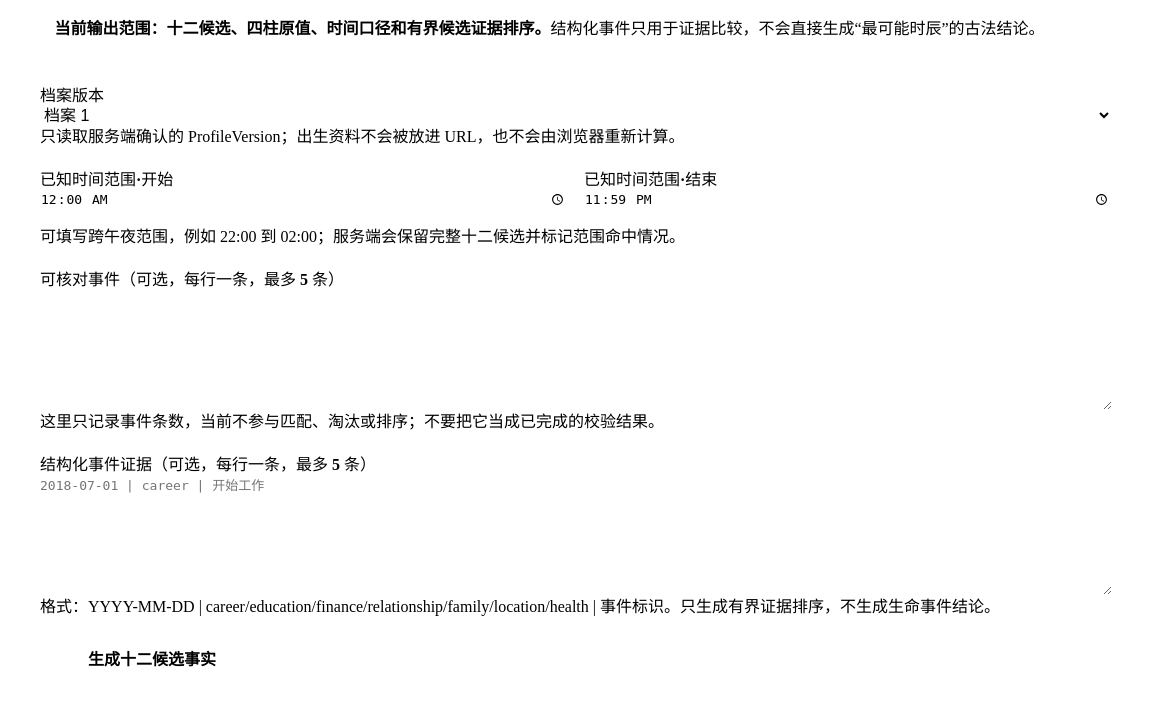
Test case: TimeCheckFlow › rejects malformed structured event evidence before submitting
The width and height of the screenshot is (1152, 720).
(page scrolled)
Step 1. Type "2018/07/01 | 工作 | 开始工作" into the text box labelled "结构化事件证据（可选，每行一条，最多 5 条）" → (576, 535), box [40,475,1112,595]
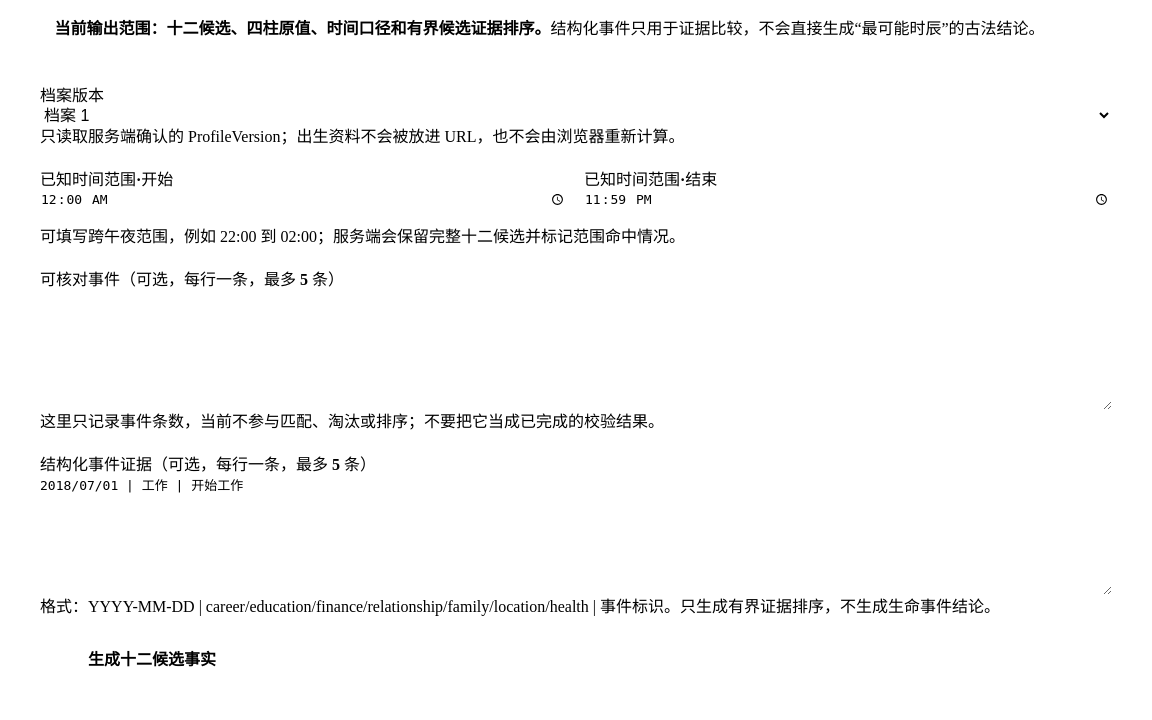
Step 2. Click the button "生成十二候选事实" → click(152, 658), box [40,636,264,680]
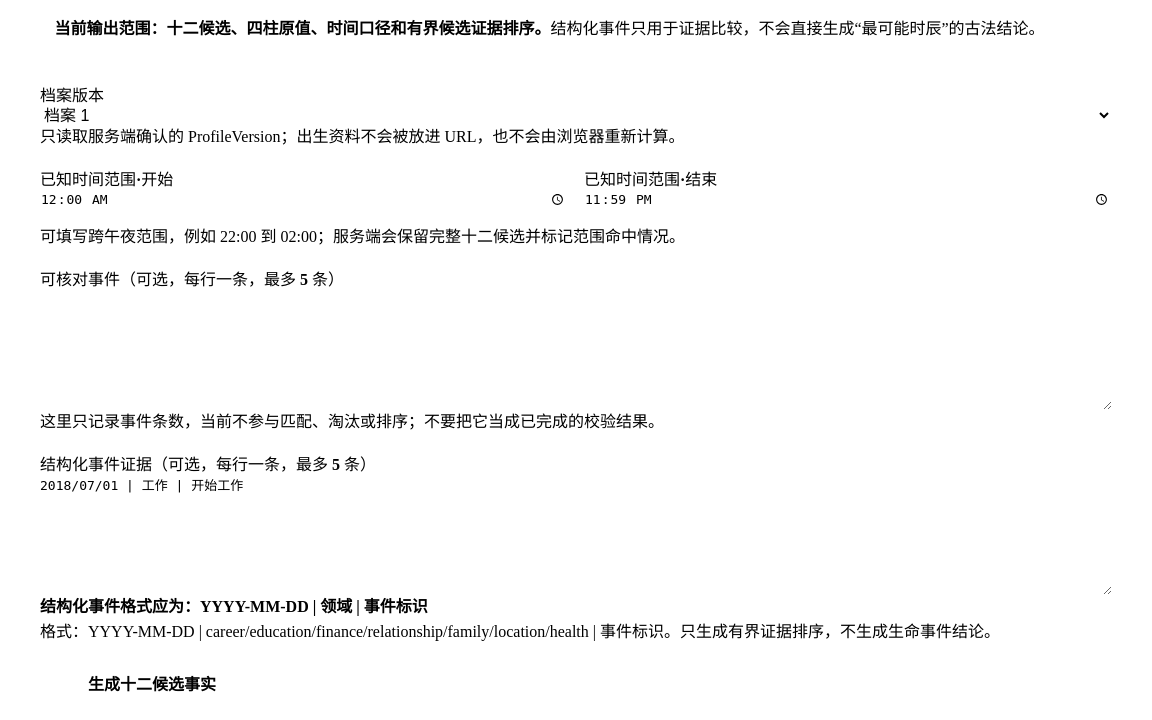
Expected: the message shows "结构化事件格式应为", [40,598,428,615]
